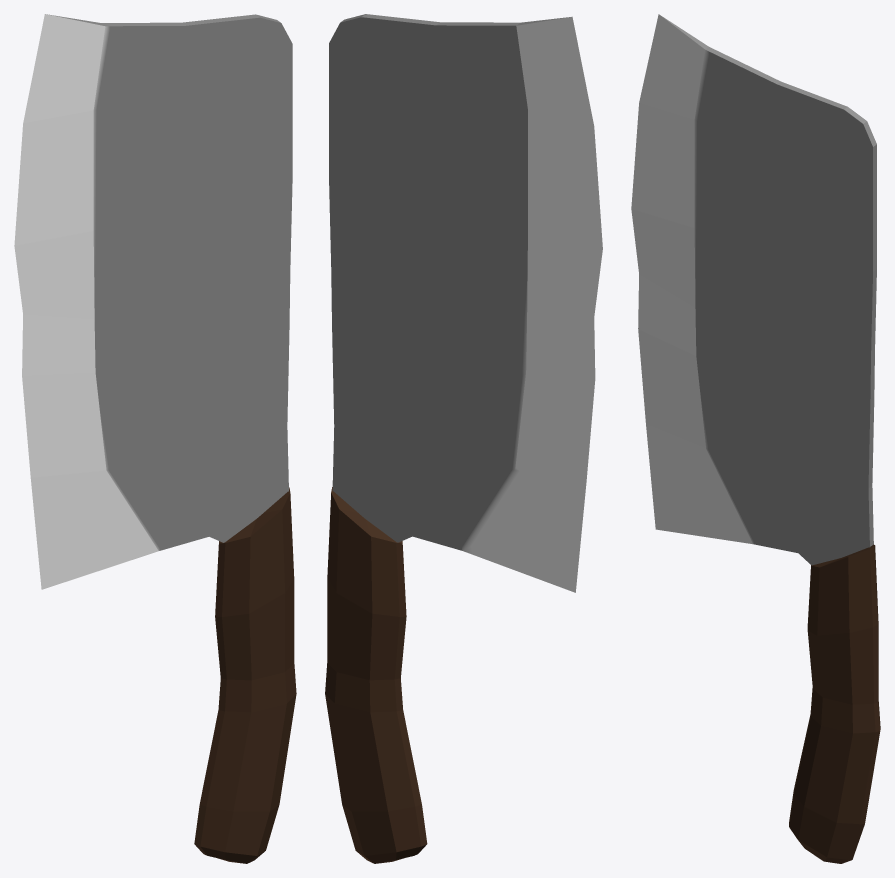
The model's file is dao1.fbx.
3 renders of one model, left to right at view 1: azimuth 30°, elevation 25°; view 2: azimuth 150°, elevation 25°; view 3: azimuth 330°, elevation 25°, orthographic. The views are drawn at different scales.
Visible parts, largest first — view 1: dao1; view 2: dao1; view 3: dao1.
Part boxes in pixels (x1,y1,x2,y2): dao1: [14, 14, 296, 863]; dao1: [325, 14, 602, 863]; dao1: [631, 14, 880, 863].
Bounding box in the file's own units: 0.9928 × 3.04 × 0.143.
